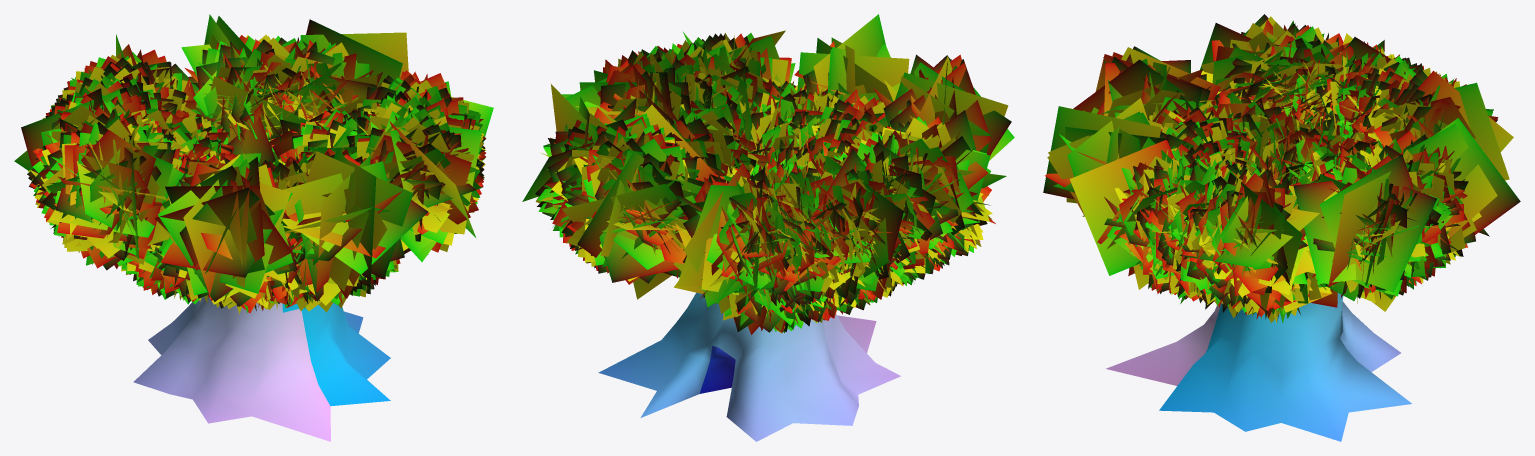
The model's file is ST_Gros_Arbre.fbx.
3 renders of one model, left to right at view 1: azimuth 30°, elevation 25°; view 2: azimuth 150°, elevation 25°; view 3: azimuth 270°, elevation 25°, orthographic. The views are drawn at different scales.
Visible parts, largest first — view 1: Cylinder001; view 2: Cylinder001; view 3: Cylinder001.
Part boxes in pixels (bbox=[...]): Cylinder001: bbox=[14, 14, 493, 441]; Cylinder001: bbox=[522, 14, 1014, 441]; Cylinder001: bbox=[1043, 14, 1520, 441].
Bounding box in the file's own units: 2363 × 1486 × 2274.
